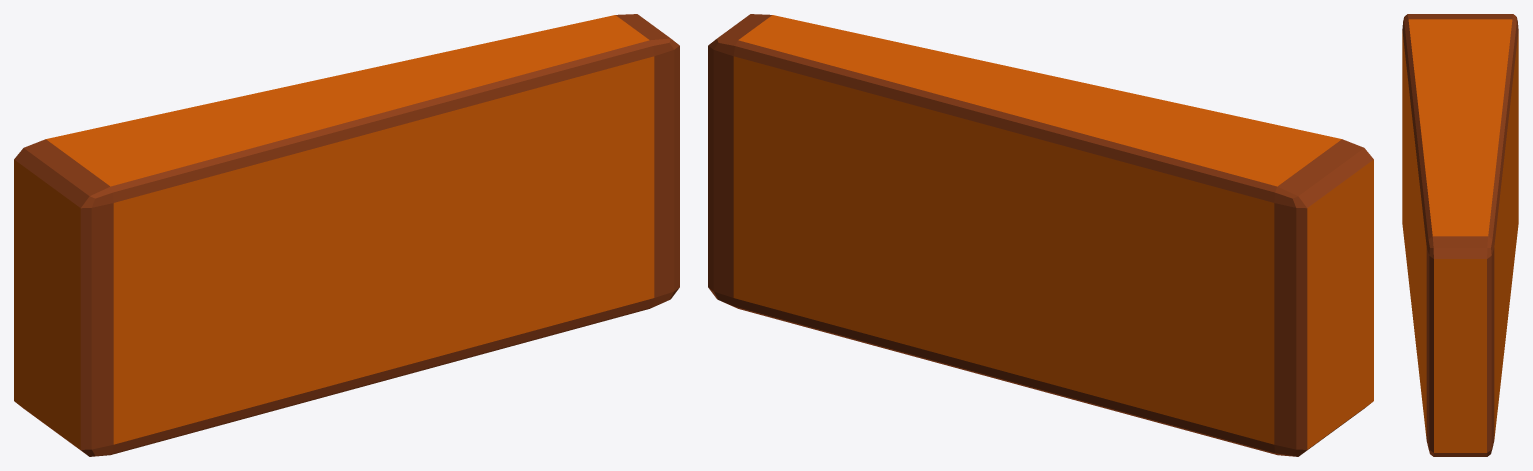
Rendered from FlipperW.fbx.
The picture shows the model from 3 angles, left to right: view 1: azimuth 30°, elevation 25°; view 2: azimuth 150°, elevation 25°; view 3: azimuth 270°, elevation 25°; orthographic projection. The views are drawn at different scales.
Visible parts, largest first — view 1: Flipper; view 2: Flipper; view 3: Flipper.
Boxes of the visible parts, left/top/right/bottom form: Flipper: left=14, top=14, right=679, bottom=456; Flipper: left=708, top=14, right=1373, bottom=456; Flipper: left=1402, top=14, right=1518, bottom=456.
Size of the model in its own units: 240 by 100 by 48.89.
